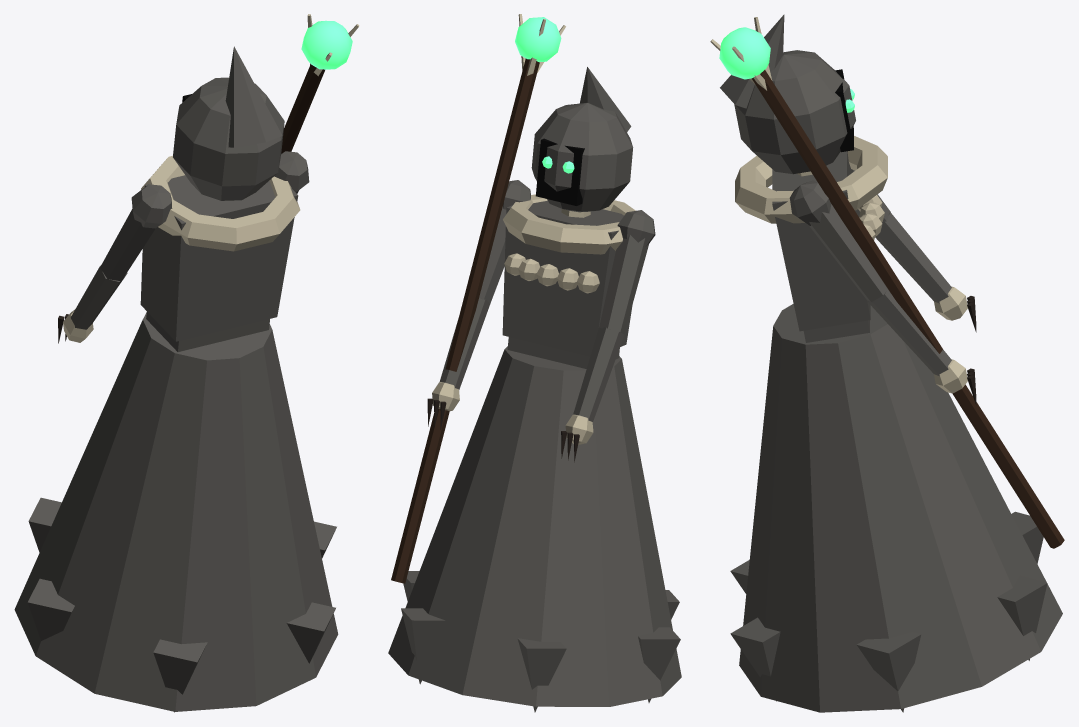
The model's file is matron.glb.
The picture shows the model from 3 angles, left to right: view 1: azimuth 30°, elevation 25°; view 2: azimuth 150°, elevation 25°; view 3: azimuth 270°, elevation 25°; orthographic projection. The views are drawn at different scales.
Parts seen in each view (by area): view 1: torso, head, arm_l, weapon, arm_r; view 2: torso, head, weapon, arm_l, arm_r; view 3: torso, head, weapon, arm_r, arm_l.
Boxes of the visible parts, left/top/right/bottom form: torso: left=14, top=155, right=338, bottom=712; head: left=173, top=46, right=284, bottom=200; arm_l: left=58, top=184, right=172, bottom=343; weapon: left=281, top=14, right=359, bottom=153; arm_r: left=274, top=151, right=309, bottom=193; torso: left=388, top=194, right=681, bottom=712; head: left=531, top=67, right=633, bottom=217; weapon: left=391, top=14, right=565, bottom=583; arm_l: left=561, top=210, right=655, bottom=462; arm_r: left=427, top=180, right=530, bottom=429; torso: left=730, top=136, right=1062, bottom=712; head: left=720, top=14, right=855, bottom=176; weapon: left=710, top=17, right=1064, bottom=548; arm_r: left=789, top=180, right=976, bottom=404; arm_l: left=853, top=170, right=976, bottom=332.
Bounding box in the file's own units: 1.53 × 3.18 × 1.5.
